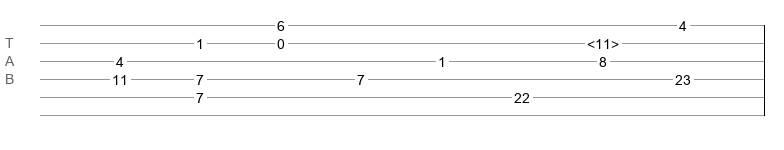0: (277, 36, 285, 46)
1: (196, 36, 204, 46), (438, 54, 446, 64)
11: (112, 72, 128, 82)
22: (514, 90, 530, 100)
23: (675, 72, 691, 82)
4: (116, 54, 124, 64), (679, 18, 687, 28)
6: (277, 18, 285, 28)
7: (196, 90, 204, 100), (196, 72, 204, 82), (357, 72, 365, 82)
8: (599, 54, 607, 64)
harmonic: (587, 36, 619, 46)
